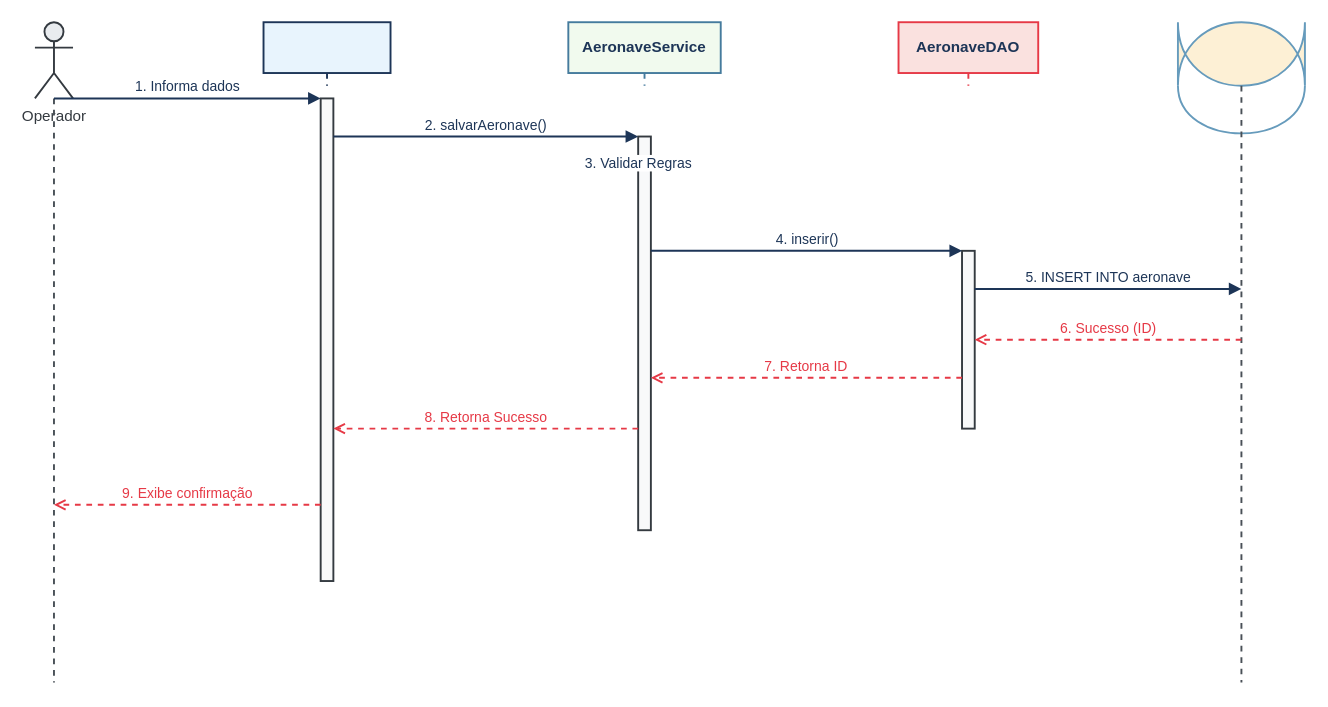
This 1328x707 diagram has some shape labels left out. Here are the shapes that lost their labels. From the top down, the centre of each, then its label:
At (x=326, y=53): "InterfaceUsuario (Console)".
At (x=1240, y=53): "MariaDB".
